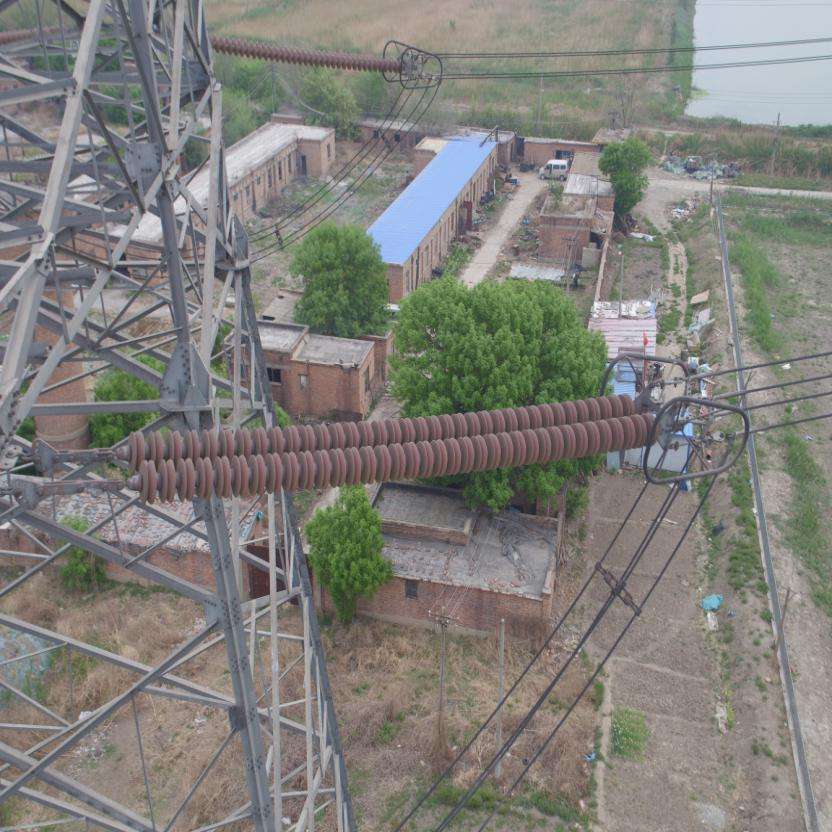insulator: (92, 387, 669, 508), (210, 28, 408, 75)
